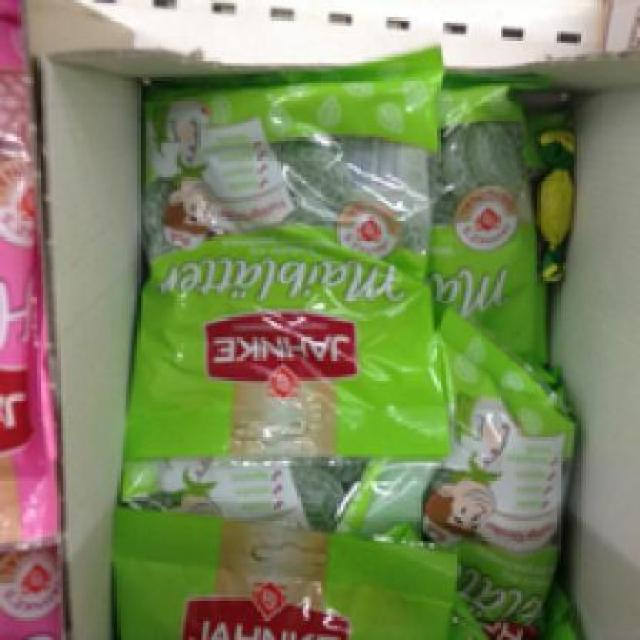Candy: (126, 73, 448, 450), (352, 323, 574, 620)
